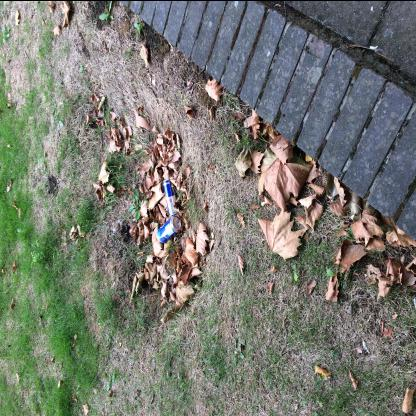metal: (156, 214, 180, 242), (163, 178, 179, 216)
